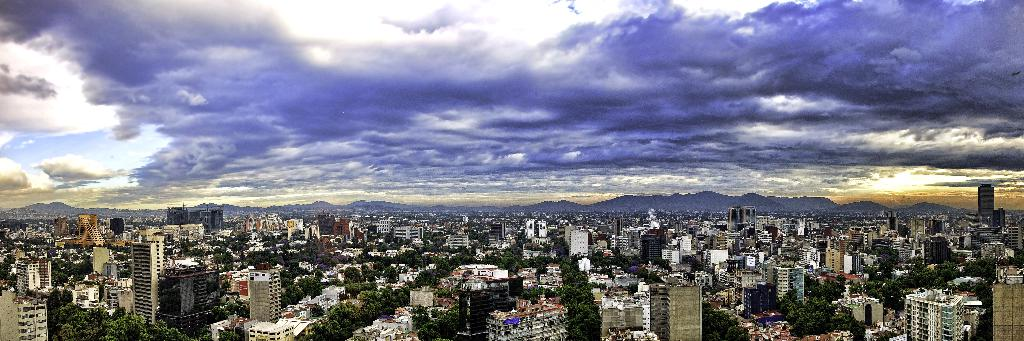Tree: (165, 224, 1023, 340), (56, 298, 183, 340)
